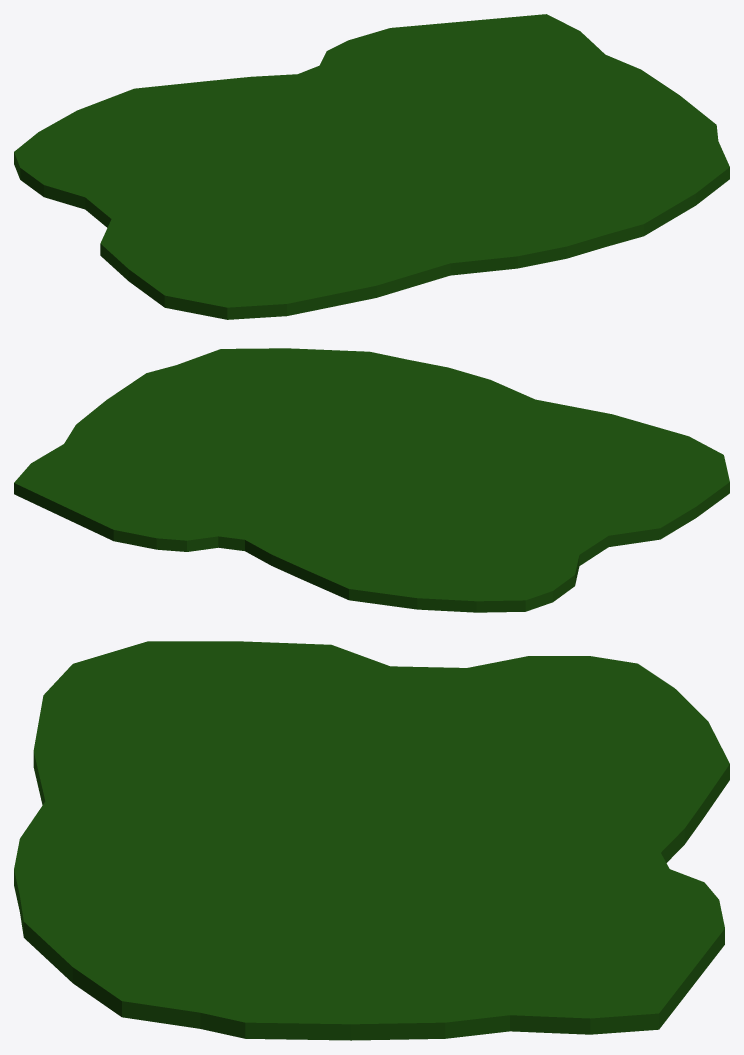
The model's file is Sand 12.FBX.
3 views of the same model, one above another, from view 1: azimuth 30°, elevation 25°; view 2: azimuth 150°, elevation 25°; view 3: azimuth 270°, elevation 25° (orthographic). The views are drawn at different scales.
Visible parts, largest first — view 1: Plane001; view 2: Plane001; view 3: Plane001.
Part boxes in pixels (x1=…): Plane001: x1=14, y1=14, x2=729, y2=319; Plane001: x1=14, y1=348, x2=729, y2=612; Plane001: x1=14, y1=641, x2=729, y2=1040.
Size of the model in its own units: 126 by 2.49 by 99.66.
